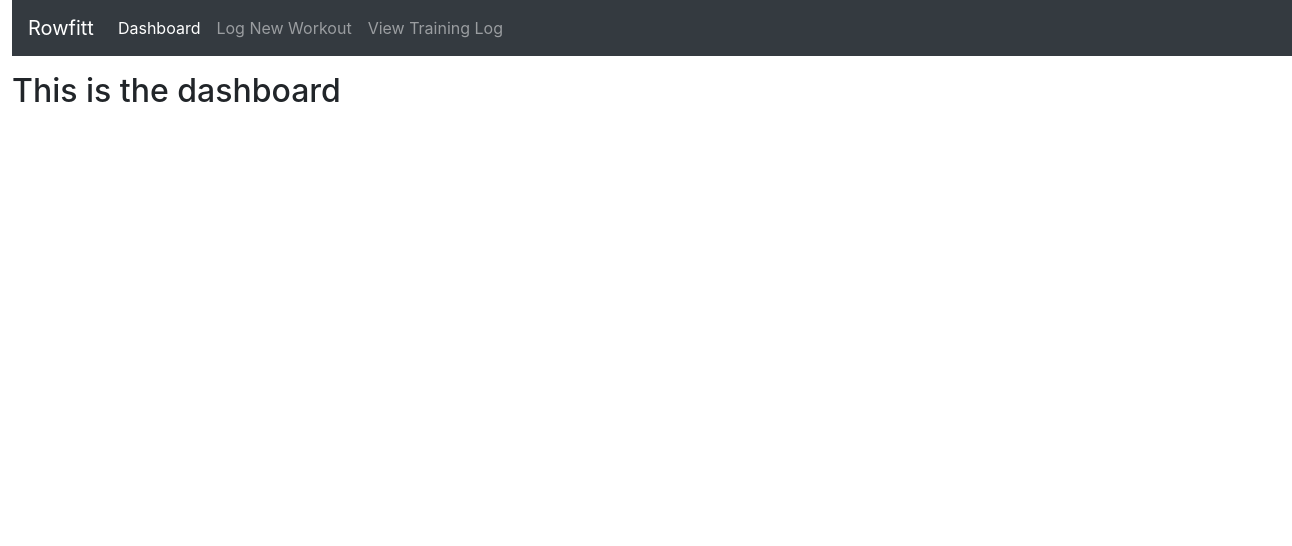
Test: clicking on /log-new-workout link displays LogNewWorkout page
Click the link "Log New Workout" at (284, 28), box [216,18,352,38]
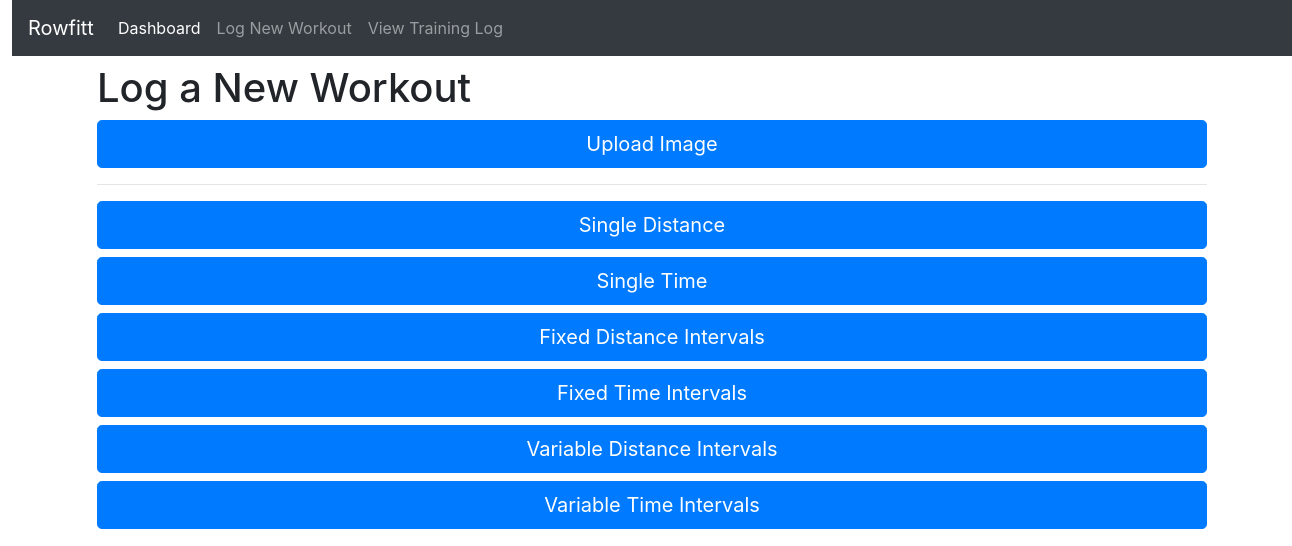
Now the text "Log a New Workout" is shown, box [97,63,471,112]
